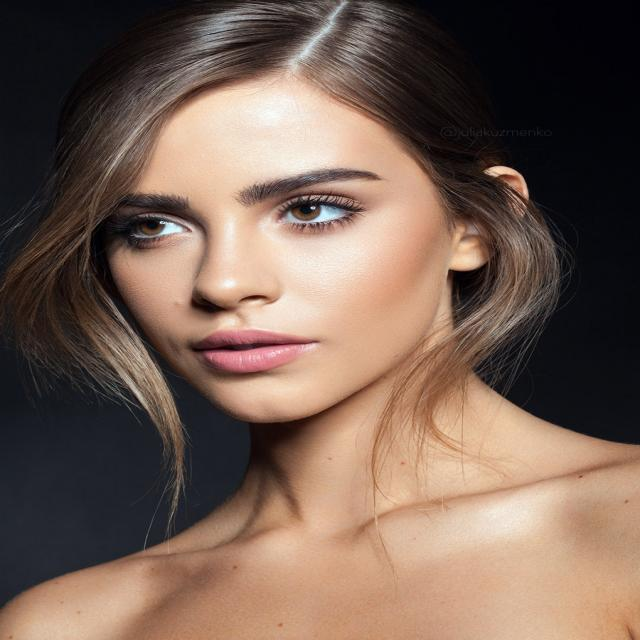earlobe: (447, 234, 488, 273)
eye: (272, 197, 358, 225), (123, 214, 195, 241)
nose: (192, 294, 275, 325)
wholeear: (448, 166, 532, 272)
